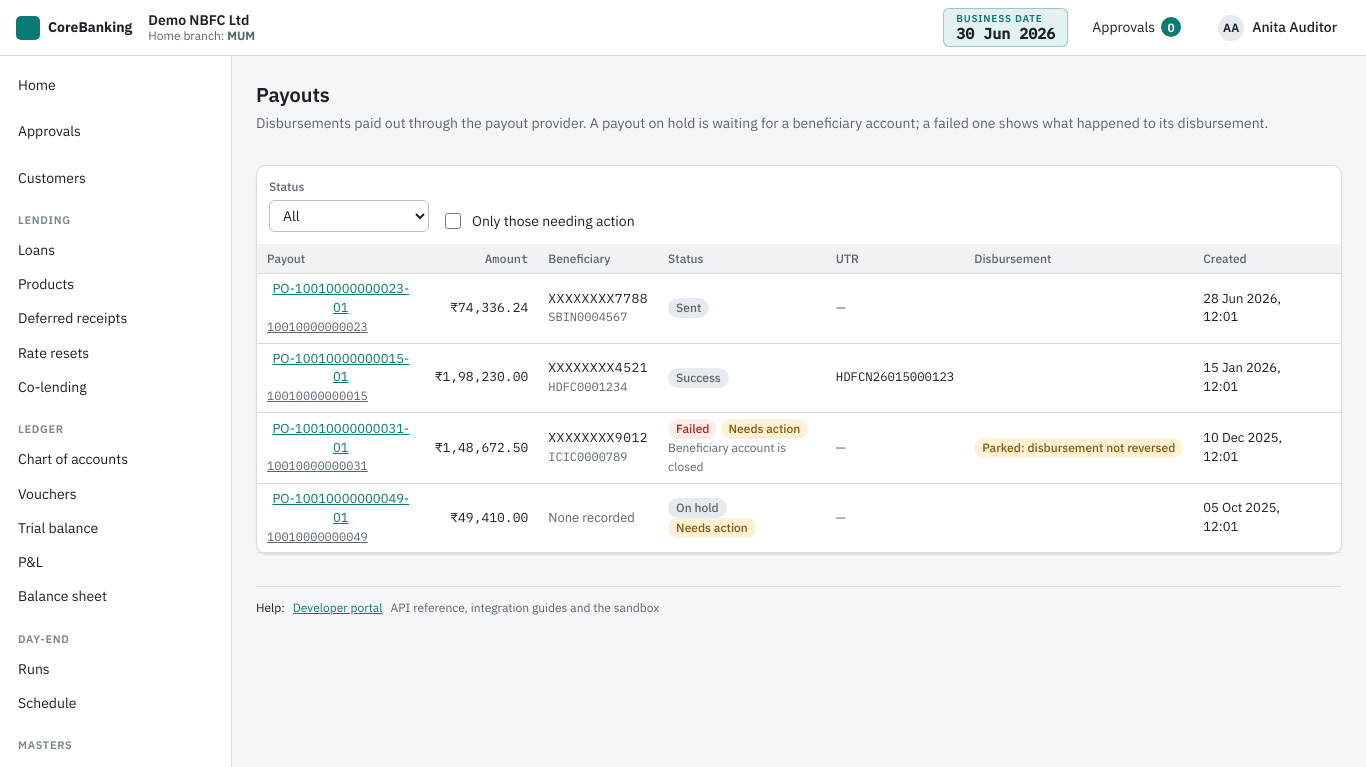
Test: payouts › shows status, UTR and the masked beneficiary; a failed payout shows what became of the disbursement
Expected: the text "HDFCN26015000123" is shown, [836,368,954,384]
Expected: the text "Parked: disbursement not reversed" is shown, [974,438,1183,458]
Click the button with aria-label "Open payout" at (341, 439), box [267,420,415,457]
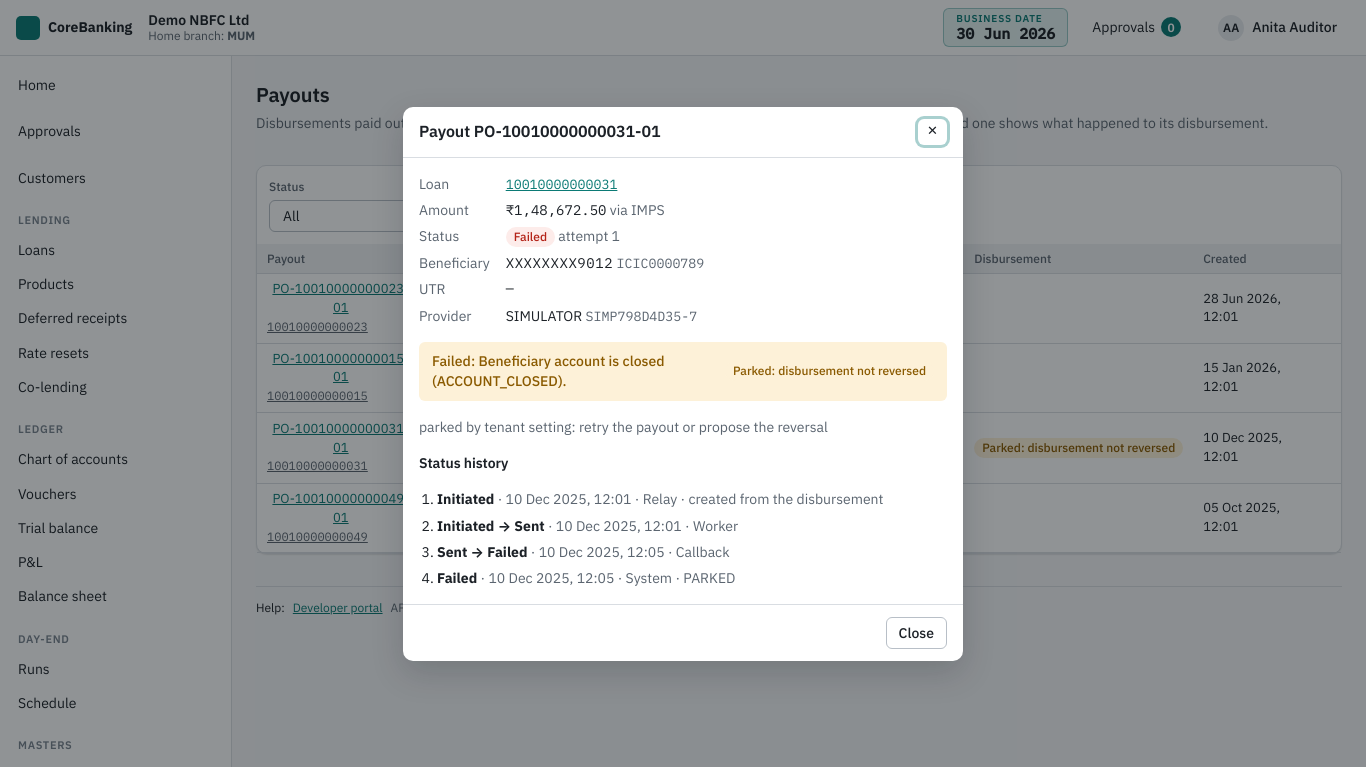
Result: the list named "Status history" shows "Sent → Failed" at [437,543,528,561]
